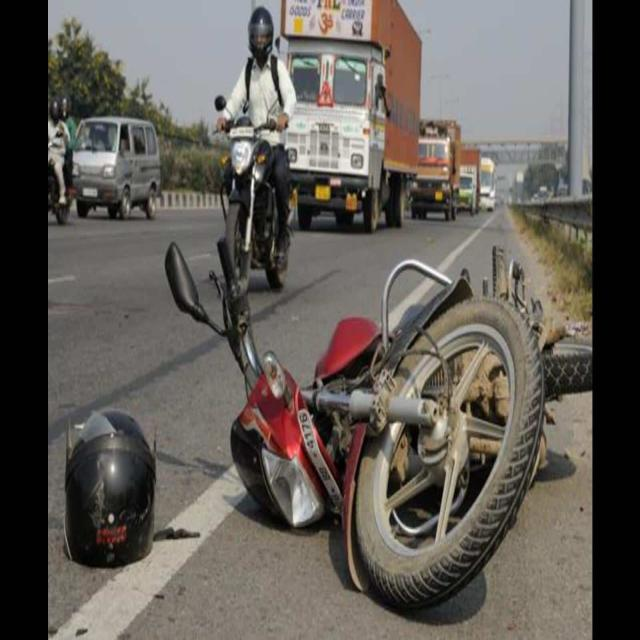accident: (165, 244, 591, 607)
motorcycle: (215, 7, 296, 291)
truck: (281, 0, 421, 231)
